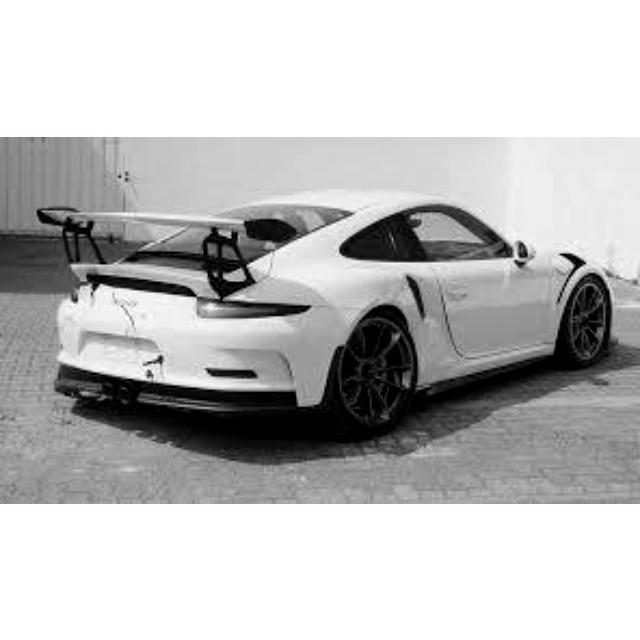rear-bumper-dent: (79, 297, 206, 392)
